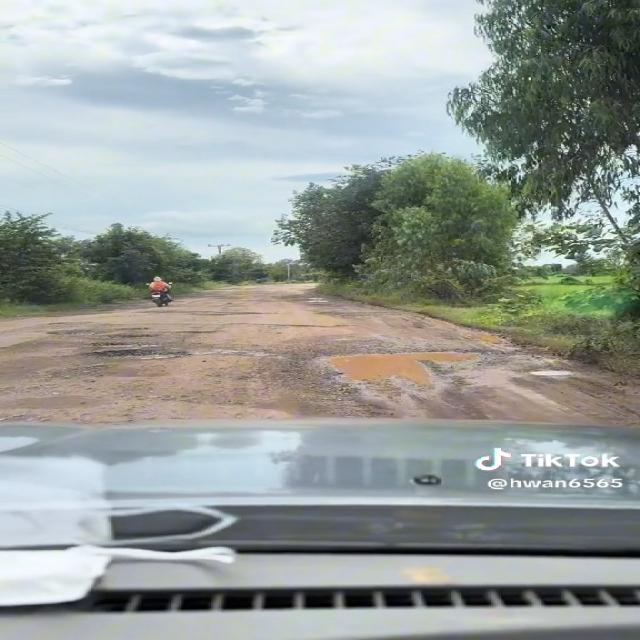Poth-hole: (210, 303, 276, 332)
